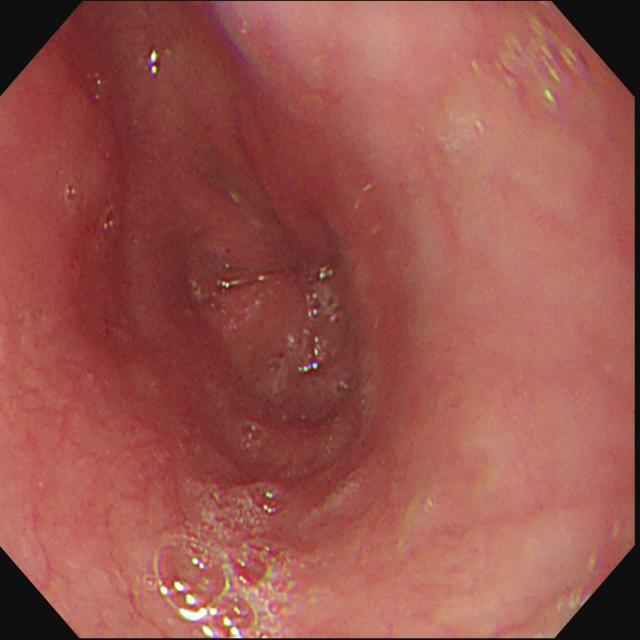I: (221, 197, 357, 369)
T: (146, 479, 297, 639)
U: (150, 49, 162, 78)
